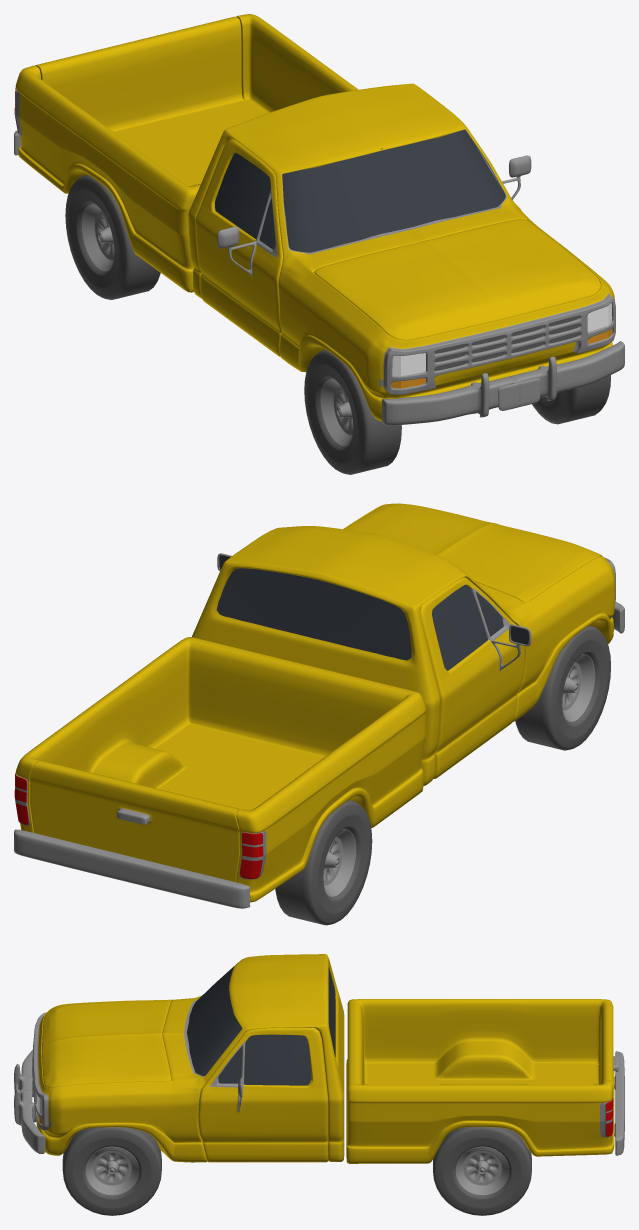
File: pickupTruck.fbx
The picture shows the model from 3 angles, top to bottom: view 1: azimuth 30°, elevation 25°; view 2: azimuth 150°, elevation 25°; view 3: azimuth 270°, elevation 25°; orthographic projection. The views are drawn at different scales.
Visible parts, largest first — view 1: chassis-rb-compound, windshild, frTire-rb-tire-wheel, rrTire-rb-tire-wheel, flTire-rb-tire-wheel, grill, headlights; view 2: chassis-rb-compound, windshild, rrTire-rb-tire-wheel, frTire-rb-tire-wheel; view 3: chassis-rb-compound, windshild, flTire-rb-tire-wheel, rlTire-rb-tire-wheel.
Part boxes in pixels (left/top/right/bottom): chassis-rb-compound: left=14, top=14, right=624, bottom=425; windshild: left=215, top=129, right=505, bottom=252; frTire-rb-tire-wheel: left=304, top=350, right=401, bottom=474; rrTire-rb-tire-wheel: left=65, top=175, right=160, bottom=299; flTire-rb-tire-wheel: left=532, top=375, right=610, bottom=424; grill: left=434, top=316, right=579, bottom=370; headlights: left=392, top=303, right=612, bottom=376; chassis-rb-compound: left=14, top=503, right=624, bottom=908; windshild: left=217, top=555, right=528, bottom=670; rrTire-rb-tire-wheel: left=275, top=800, right=372, bottom=925; frTire-rb-tire-wheel: left=515, top=625, right=610, bottom=750; chassis-rb-compound: left=14, top=954, right=624, bottom=1163; windshild: left=187, top=966, right=335, bottom=1085; flTire-rb-tire-wheel: left=62, top=1127, right=161, bottom=1215; rlTire-rb-tire-wheel: left=433, top=1127, right=531, bottom=1215.
Size of what is drawn, in the model's own units: 305 by 228 by 665.
